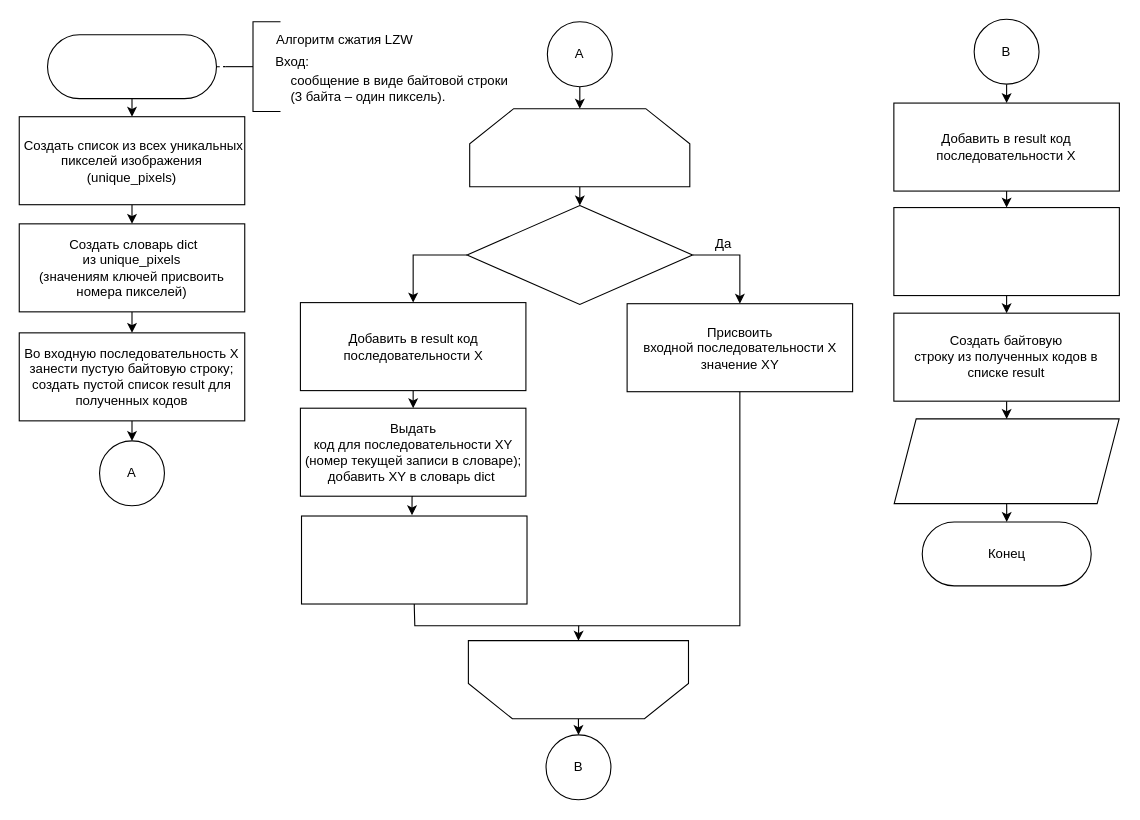
Some shapes in this 1140 by 820 pixel diagram are drawn without their labels. Each missing label, with the centre of its shape:
"Байтовая строка, список уникальных пикселей, размер кода lzw в байтах" goes at point 1006,461.
"Вычислить количество байт, необходимых для хранения каждого кода LZW" goes at point 1006,251.
"Конец цикла по всем пикселям изображения" goes at point 577,679.
"Начало" goes at point 131,66.
"Последовательность XY уже имеется в словаре ?" goes at point 579,254.
"Присвоить входной последовательности X значение Y" goes at point 413,559.
"Цикл по всем пикселям изображения (Y – очередной пиксель)" goes at point 579,147.
